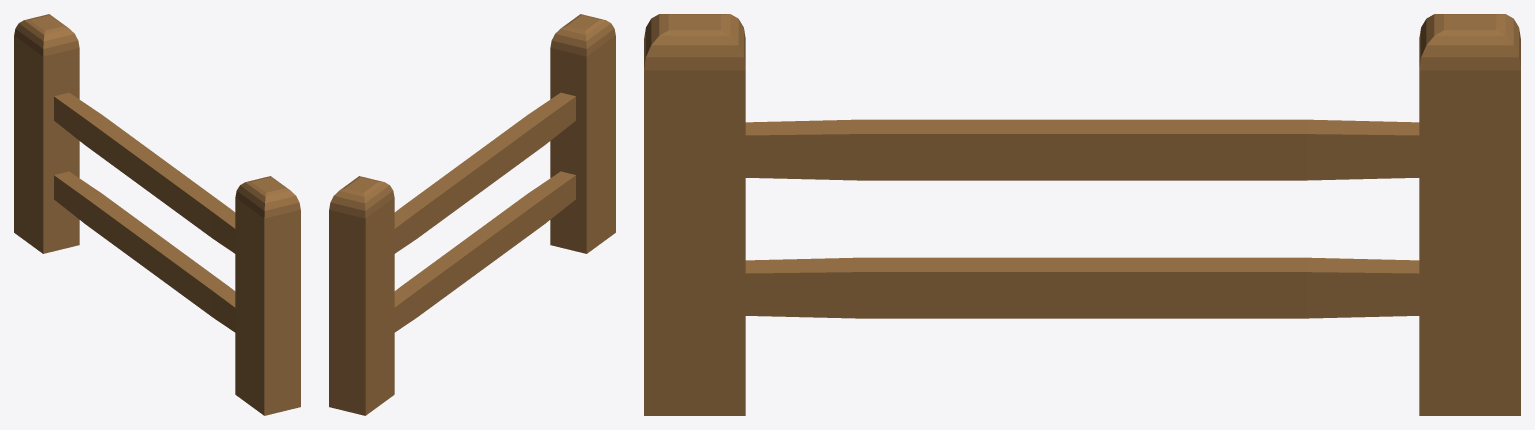
Rendered from Fencebig 1.fbx.
The picture shows the model from 3 angles, left to right: view 1: azimuth 30°, elevation 25°; view 2: azimuth 150°, elevation 25°; view 3: azimuth 270°, elevation 25°; orthographic projection. The views are drawn at different scales.
Visible parts, largest first — view 1: Cube.003; view 2: Cube.003; view 3: Cube.003.
Boxes of the visible parts, x1,y1,x2,y2 form: Cube.003: (14, 14, 300, 415); Cube.003: (329, 14, 615, 415); Cube.003: (644, 14, 1520, 415).
Bounding box in the file's own units: 10.09 × 57.21 × 120.
